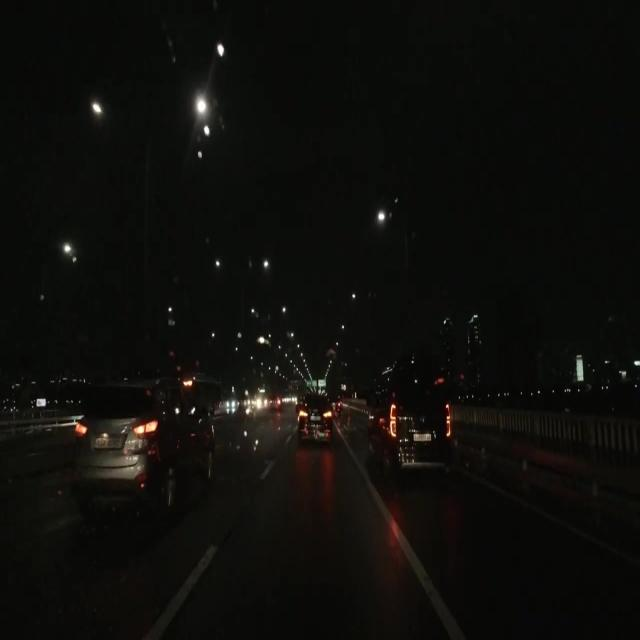Car: (69, 378, 214, 519), (363, 364, 450, 480), (294, 392, 331, 446)
